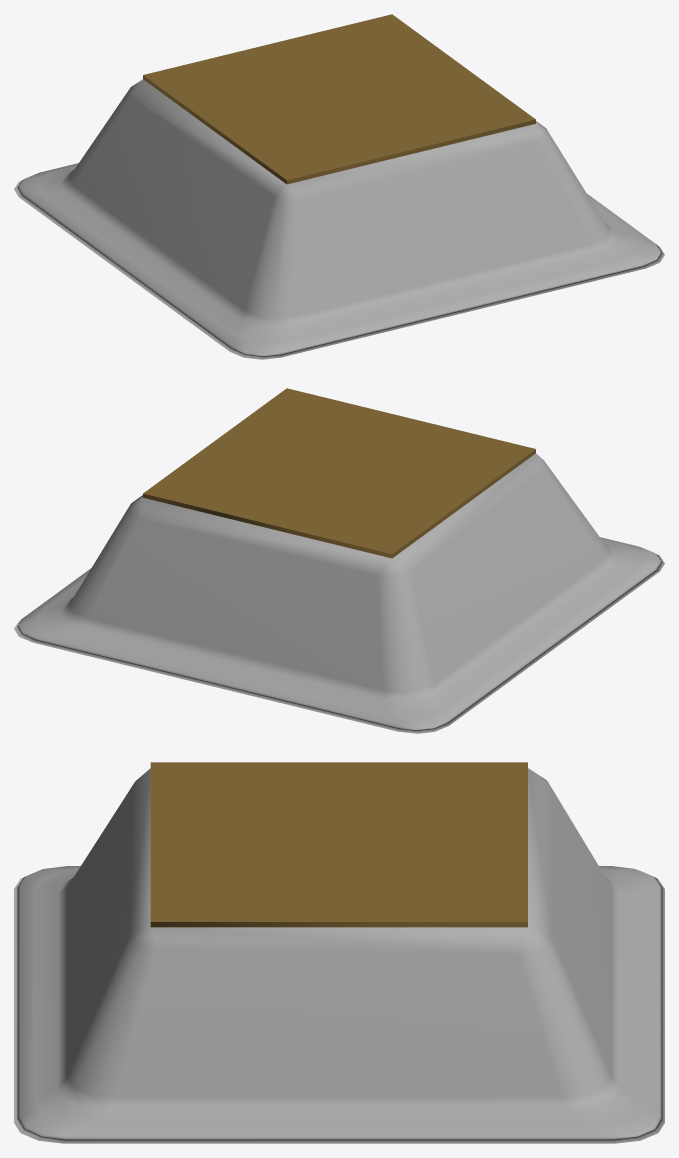
The model's file is kotatsu.fbx.
3 renders of one model, top to bottom at view 1: azimuth 30°, elevation 25°; view 2: azimuth 150°, elevation 25°; view 3: azimuth 270°, elevation 25°, orthographic. The views are drawn at different scales.
Visible parts, largest first — view 1: pCube1; view 2: pCube1; view 3: pCube1.
Boxes of the visible parts, bbox=[...] form: pCube1: bbox=[14, 14, 664, 359]; pCube1: bbox=[14, 388, 664, 733]; pCube1: bbox=[14, 762, 664, 1143].
Bounding box in the file's own units: 221 × 62.2 × 221.
